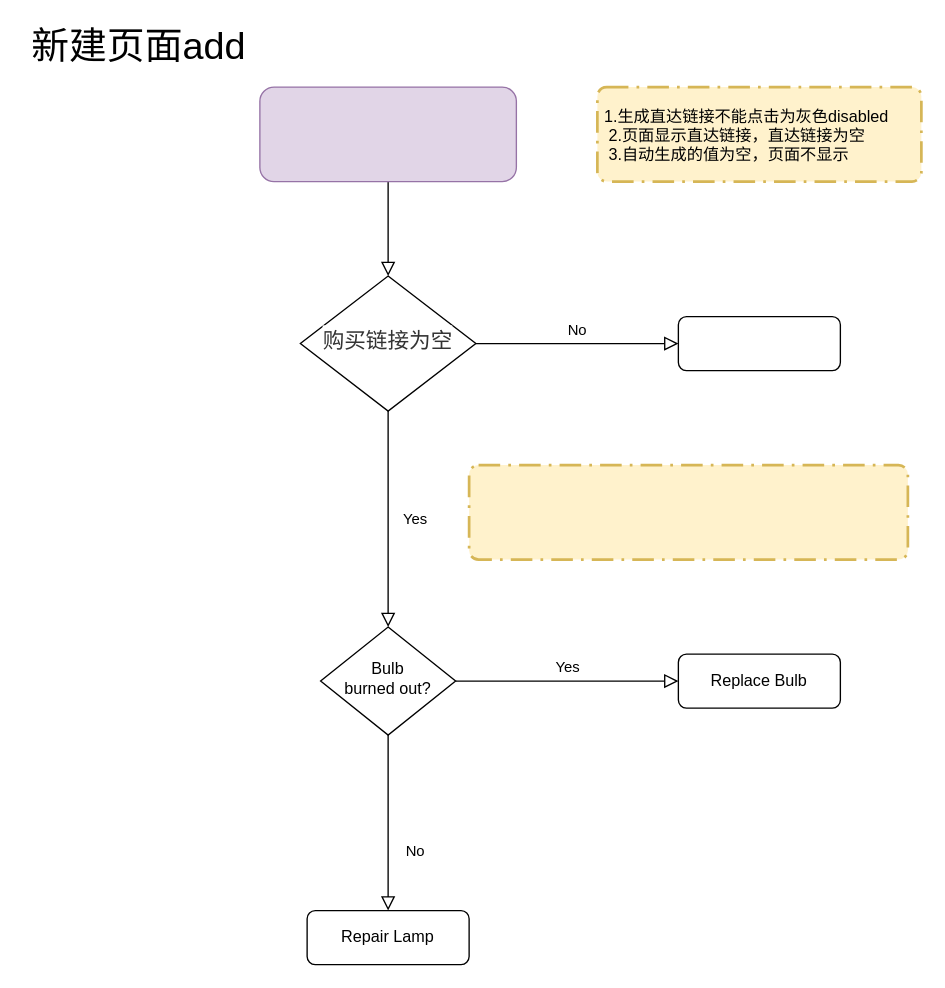
Some shapes in this 945 by 988 pixel diagram are drawn without their labels. Each missing label, with the centre of its shape:
1.购买链接标红，出提示信息：请填写购买链接 2.生成直达链接不能点击 3.直达链接非必须，提示信息“请填写淘系直达链接”清除: [688,511]
Plug in lamp: [758,343]
淘系直达链接购买链接失去焦点onBlur事件: [387,134]
